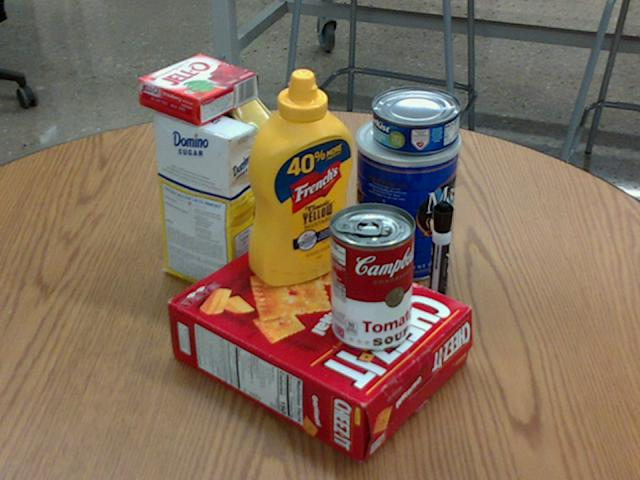cracker_box: (170, 227, 472, 462)
gelatin_box: (139, 54, 258, 124)
large_marker: (426, 201, 453, 316)
master_chef_can: (353, 113, 463, 281)
mug: (198, 154, 288, 258)
mustard_bottle: (247, 68, 352, 285)
potted_meat_can: (177, 90, 303, 215)
sugar_box: (153, 102, 255, 300)
tomato_soup_can: (330, 202, 416, 350)
tuna_fish_can: (373, 86, 461, 154)
